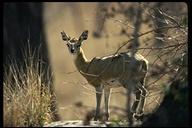antelope: (60, 27, 150, 122)
bush: (5, 28, 56, 126)
